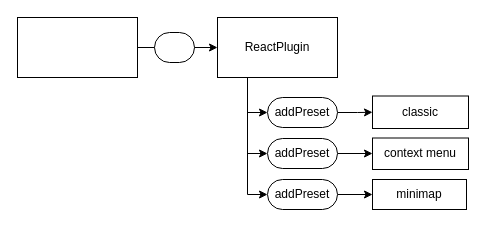
Some shapes in this 486 by 227 pixel diagram are drawn without their labels. Here are the shapes that lost their labels. From the top down, the centre of each, then its label:
At (77,47): "AreaPlugin".
At (174,47): "use".
